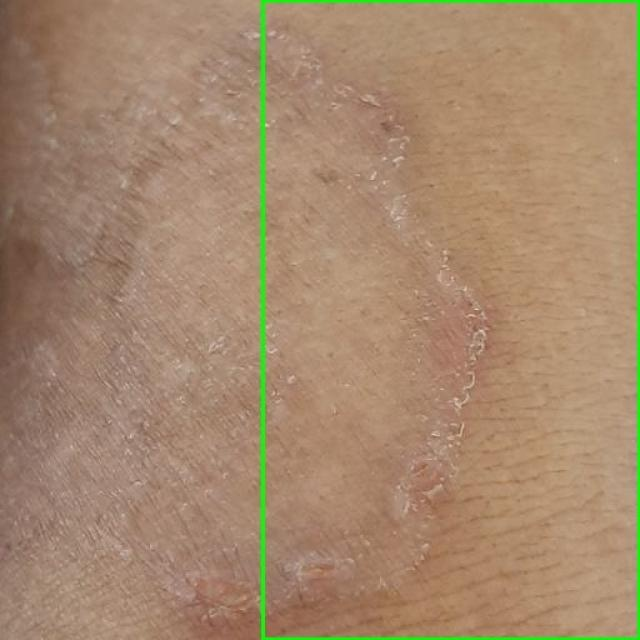Tinea Corporis: (262, 0, 639, 639)
